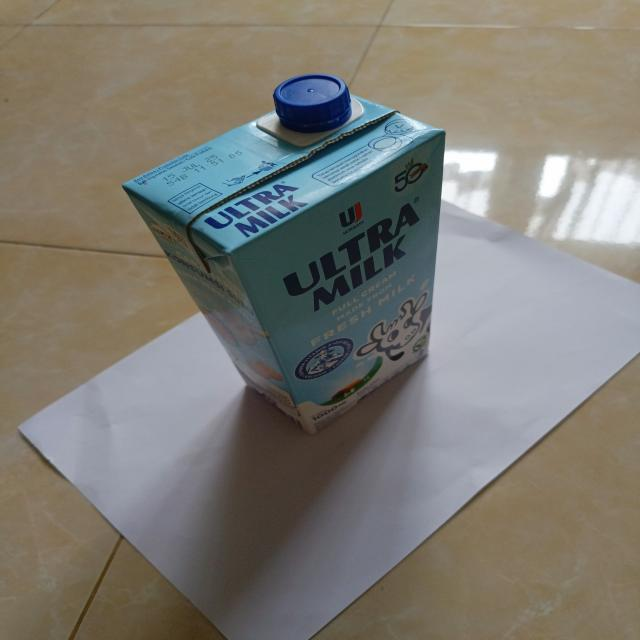indomie-mie-kocok-bandung: (124, 72, 450, 439)
